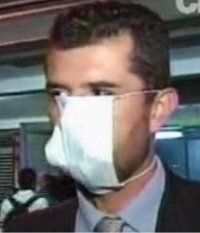mask_weared_incorrect: (44, 74, 153, 191)
